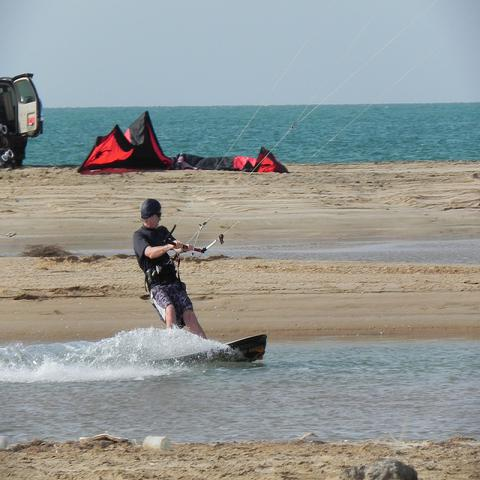car: (0, 72, 44, 170)
